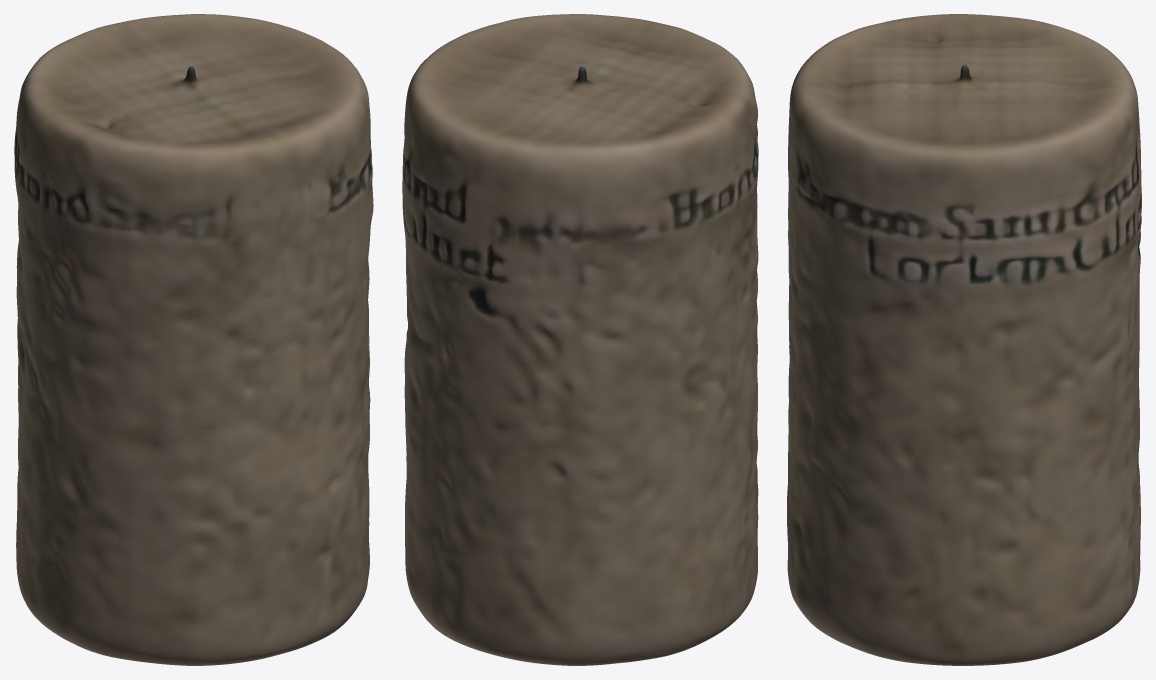
The model's file is candles.glb.
The picture shows the model from 3 angles, left to right: view 1: azimuth 30°, elevation 25°; view 2: azimuth 150°, elevation 25°; view 3: azimuth 270°, elevation 25°; orthographic projection.
Parts seen in each view (by area): view 1: world; view 2: world; view 3: world.
Boxes of the visible parts, x1,y1,x2,y2 form: world: (14, 14, 373, 665); world: (402, 14, 758, 665); world: (787, 14, 1141, 665).
Bounding box in the file's own units: 0.3216 × 0.5318 × 0.3207.
Materials: 1 (1 with a texture image).
